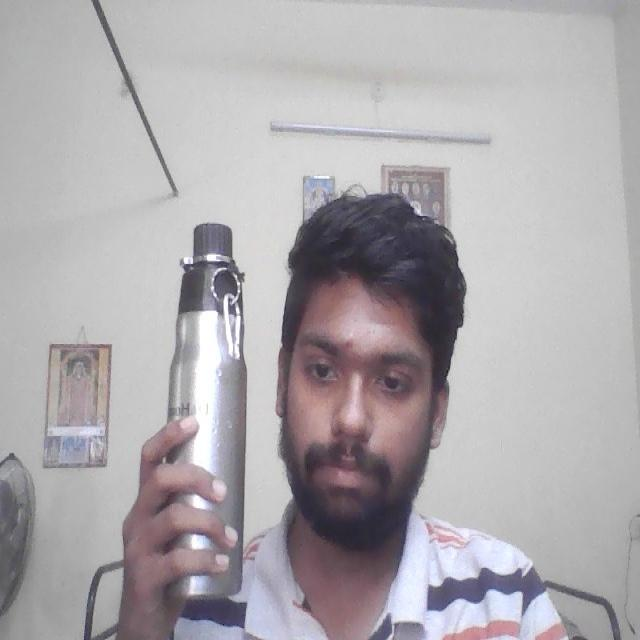Drinking: (157, 214, 254, 613)
